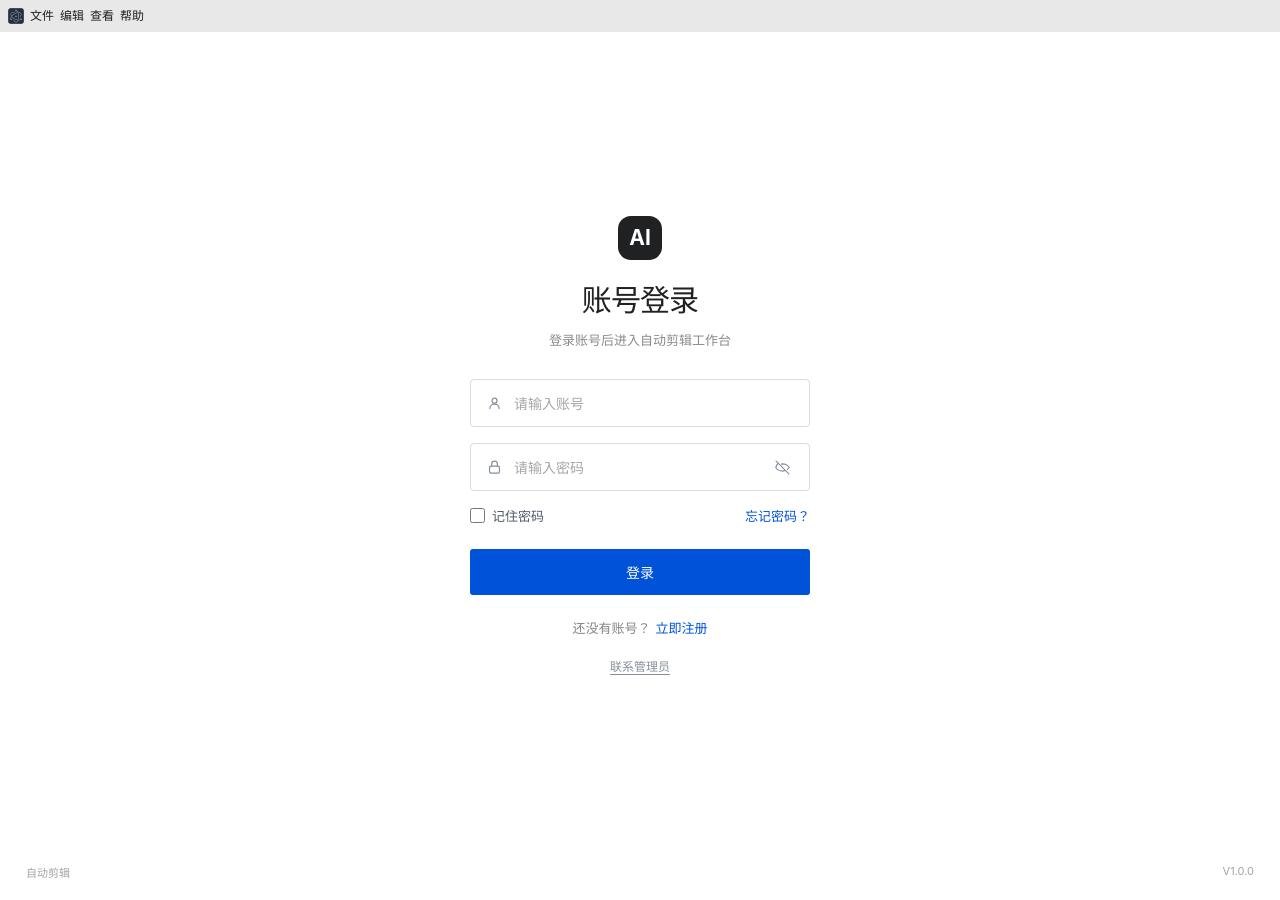
it: App › enters the workspace without credentials in development
The width and height of the screenshot is (1280, 900).
Check: the heading "账号登录" is shown, box [582,282,698,318]
Check: the text "文件" is shown, box [30,10,54,22]
What coordinates should you click on to do the following:
click the button "登录"
I would click on:
 (640, 572)
Its box is [470,549,810,595].
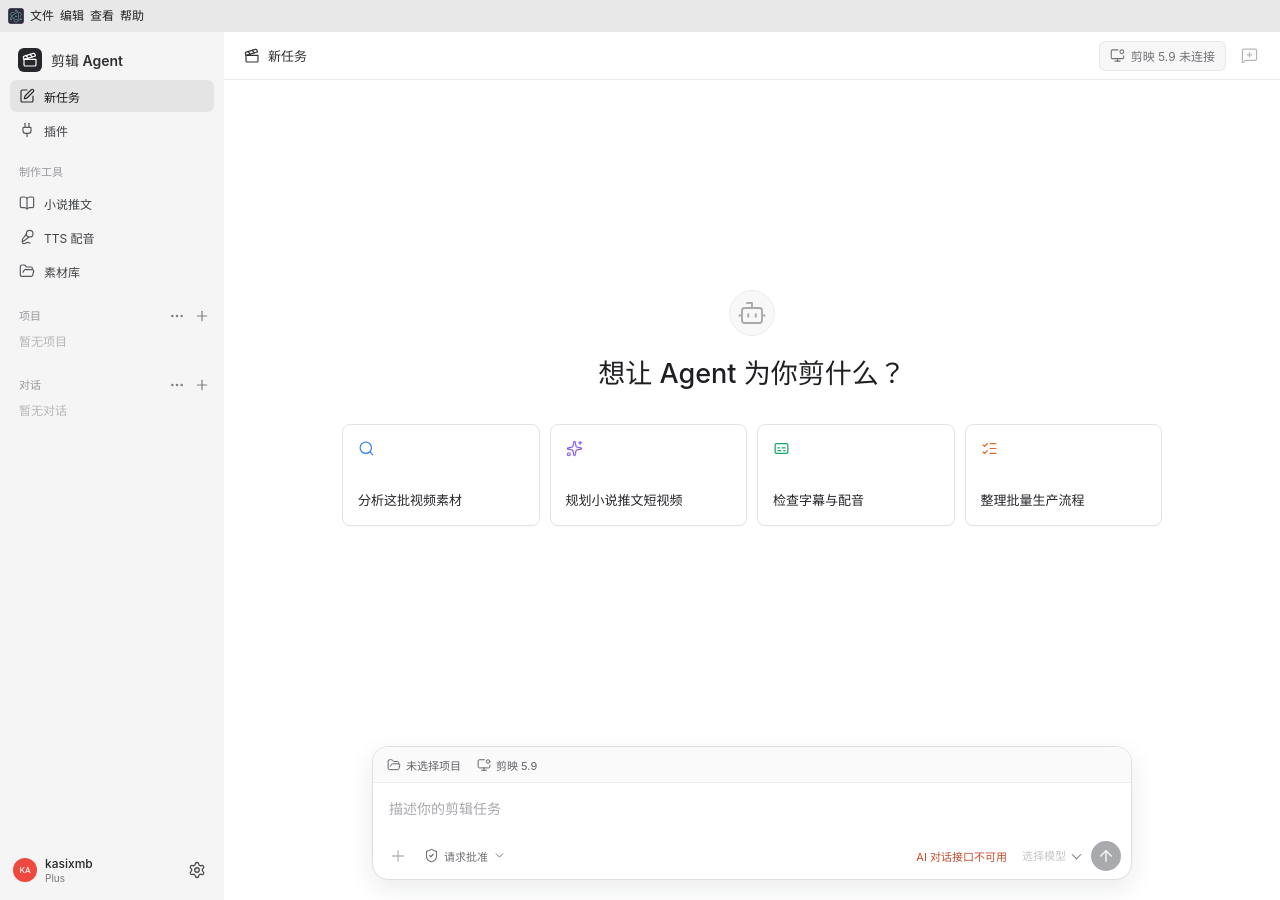
Check: the navigation bar named "主菜单" is shown, box [0,32,224,899]
Check: the heading "账号登录" is gone
